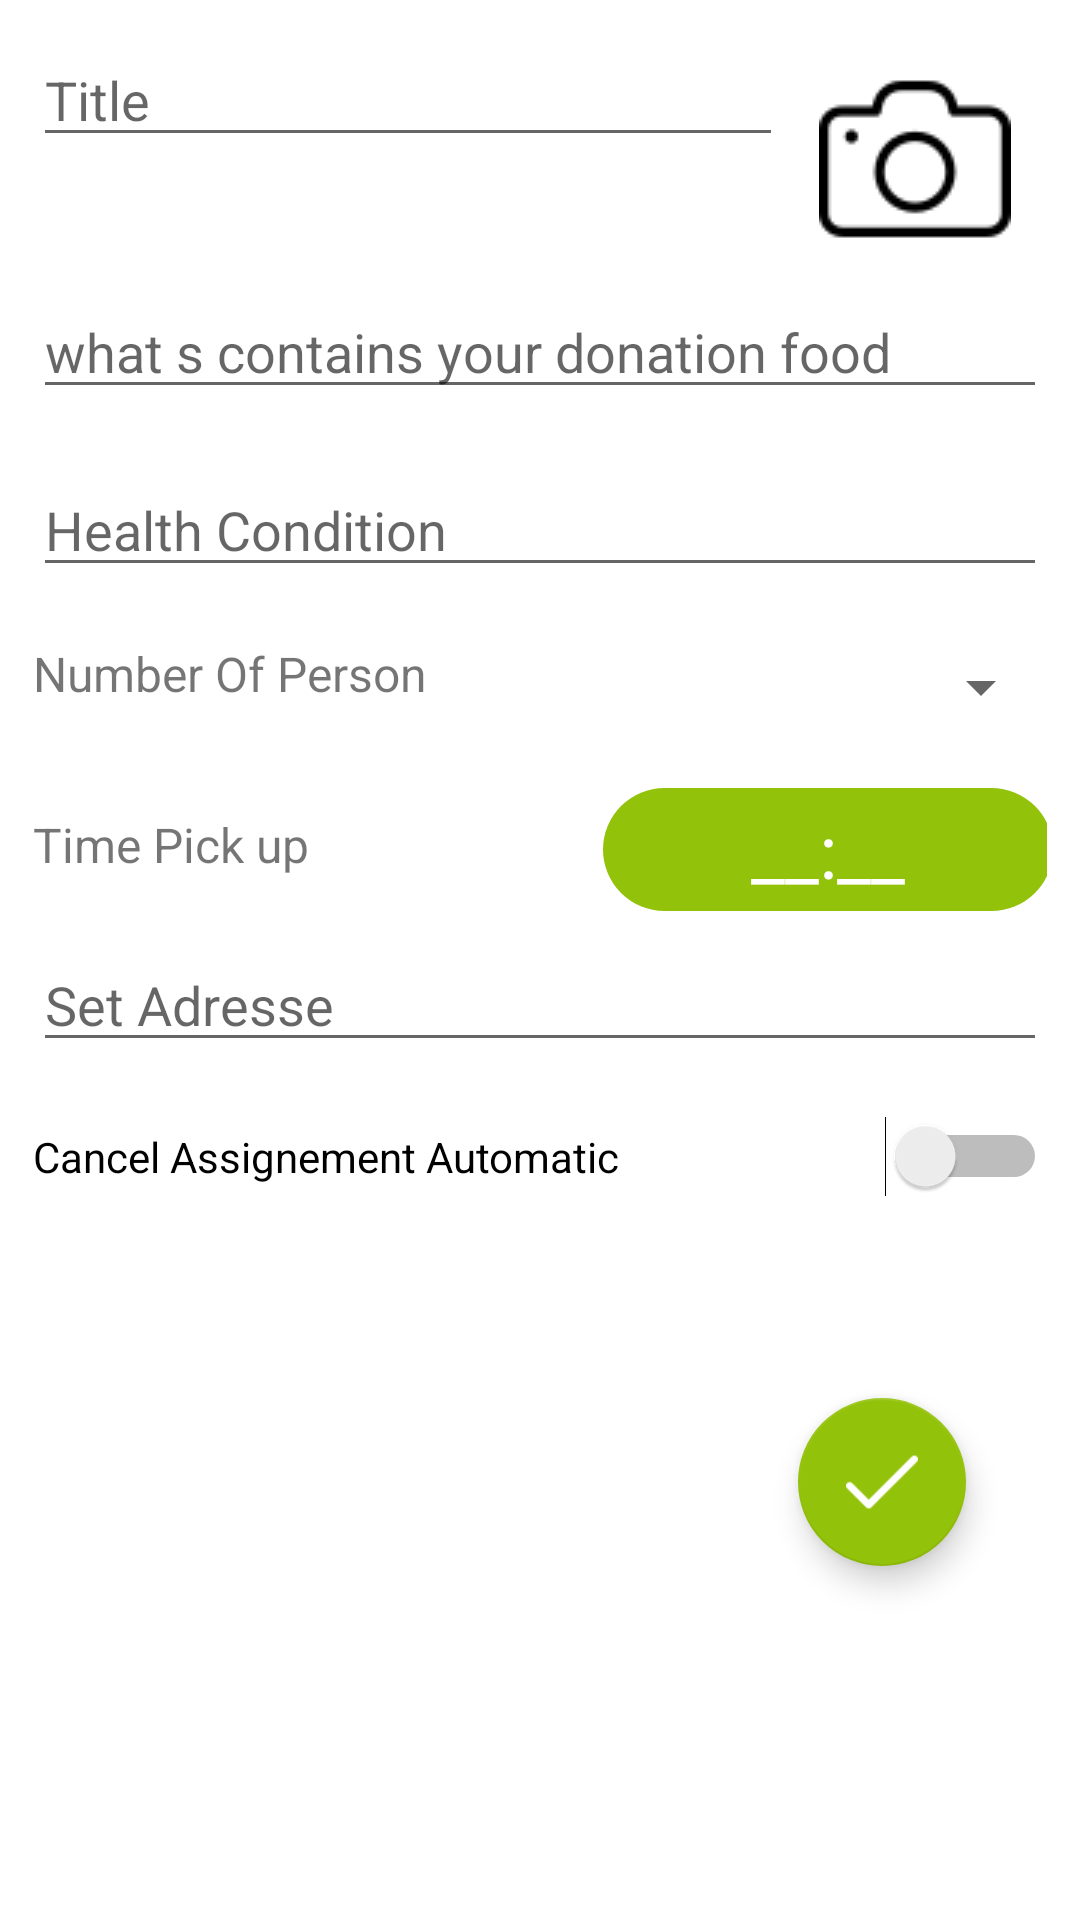

Icon bounding boxes for this 1080×1920 phone screenshot, format region(x1, y1, x2, y2):
photo cameraa: region(819, 80, 1011, 238)
tick: region(798, 1398, 966, 1566)
